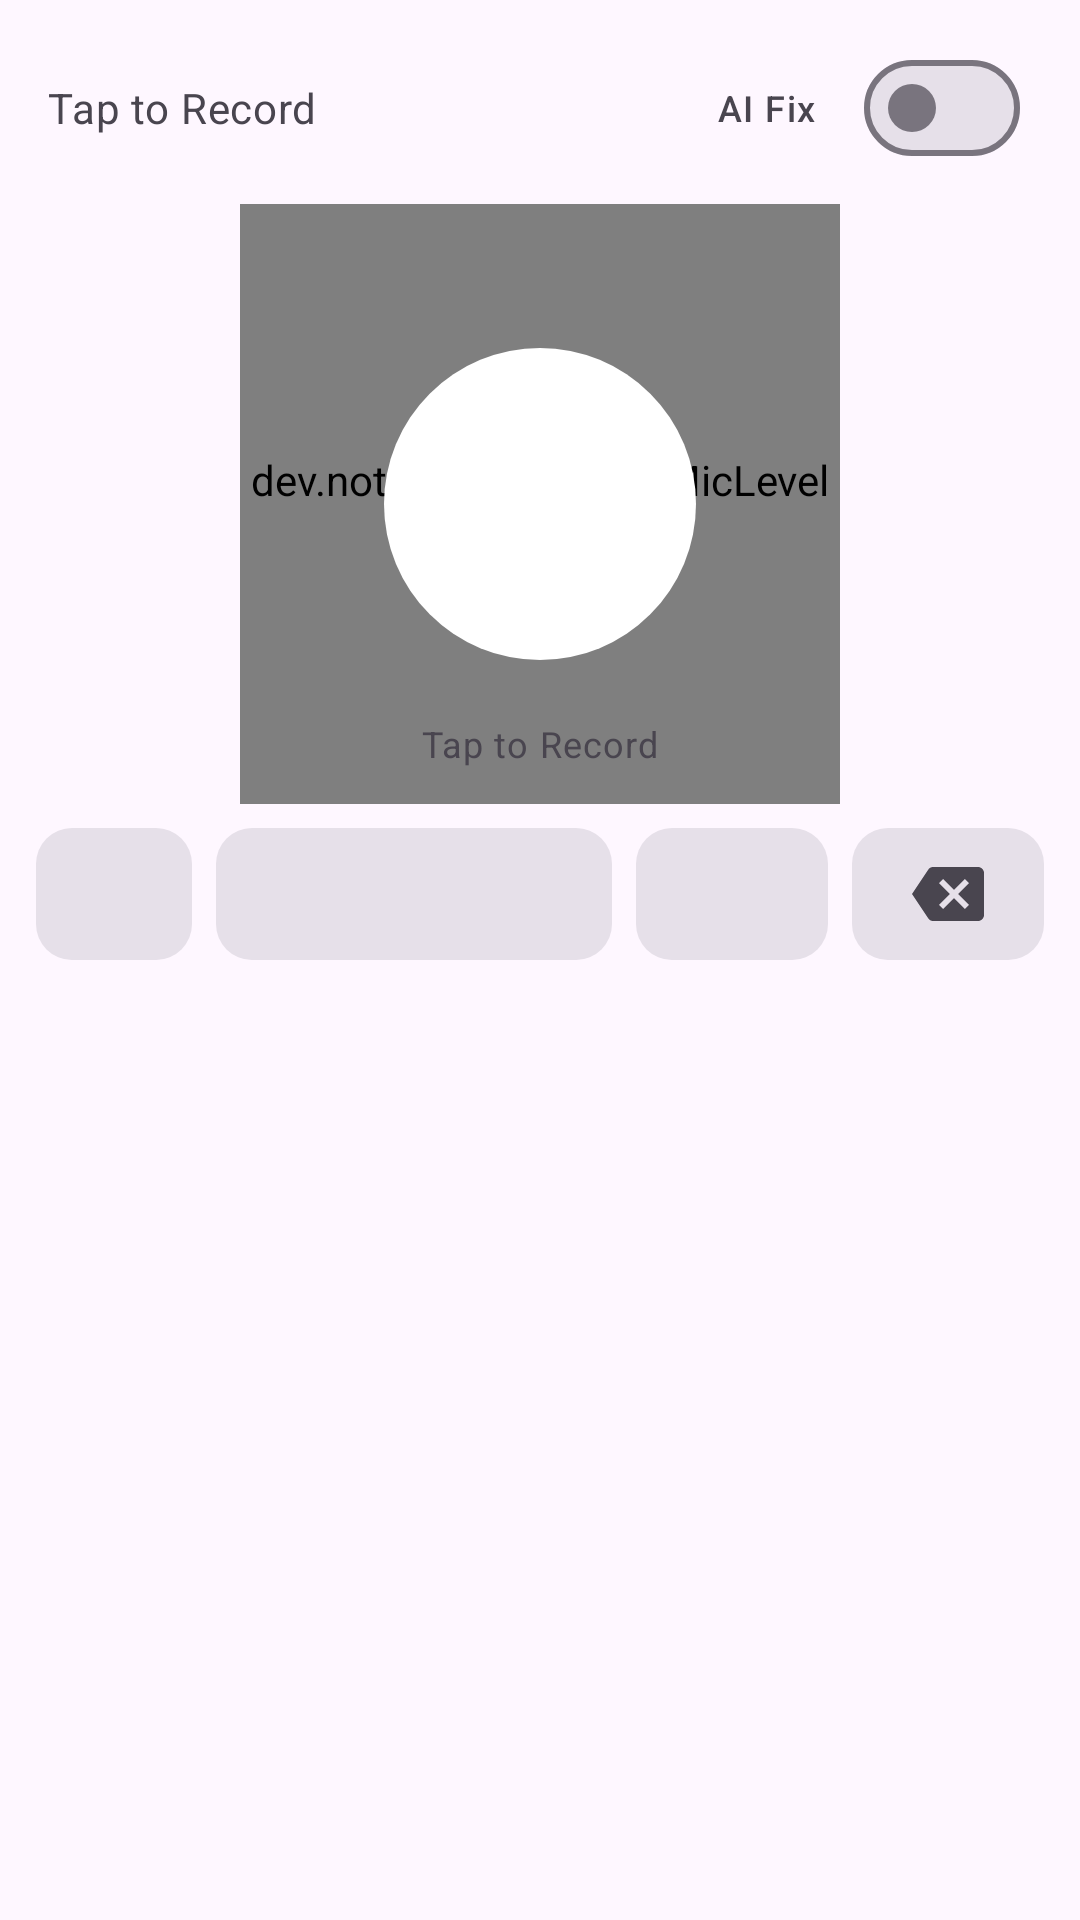

Named icons in this screenshot (1080x1920) and their centers, point (x, y):
Backspace: point (948, 894)
